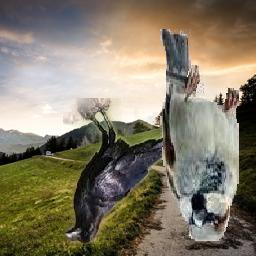Crow: (63, 98, 183, 244)
Sparrow: (161, 29, 240, 241)
